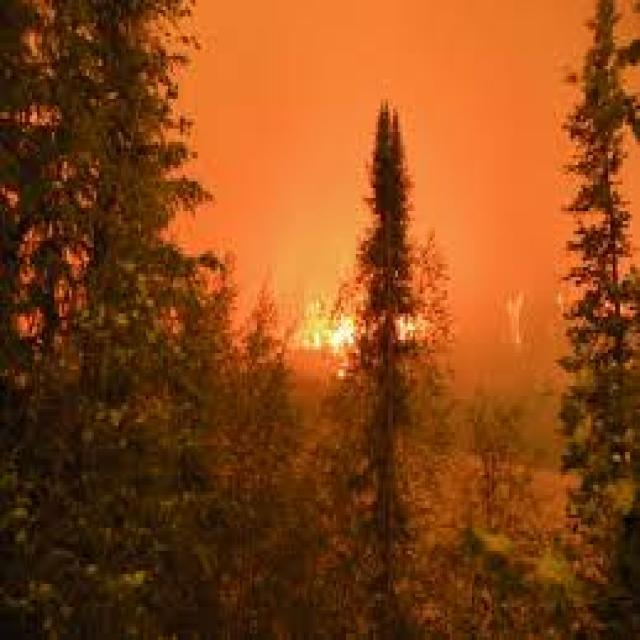Fire: (300, 307, 416, 362)
Smoke: (145, 0, 640, 394)
